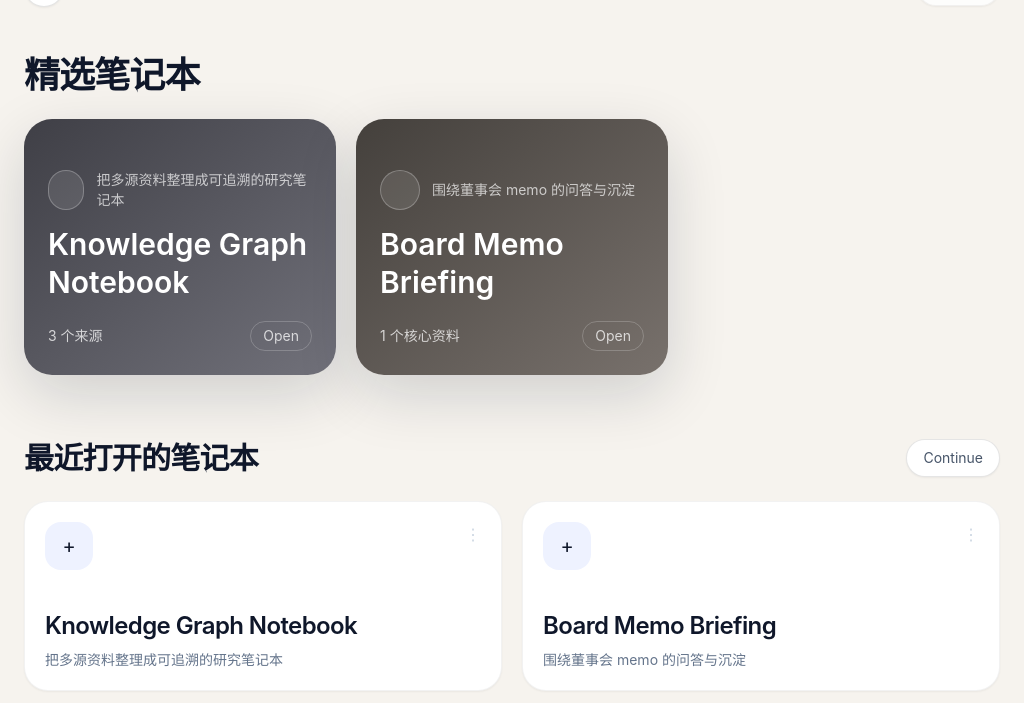
App › switches between summary, timeline and briefing views
Check: the heading "精选笔记本" is shown, box [24,53,200,97]
Step 1. Click the button "Knowledge Graph Notebook" → {"x": 180, "y": 247}, box [24,119,336,375]
(page scrolled)
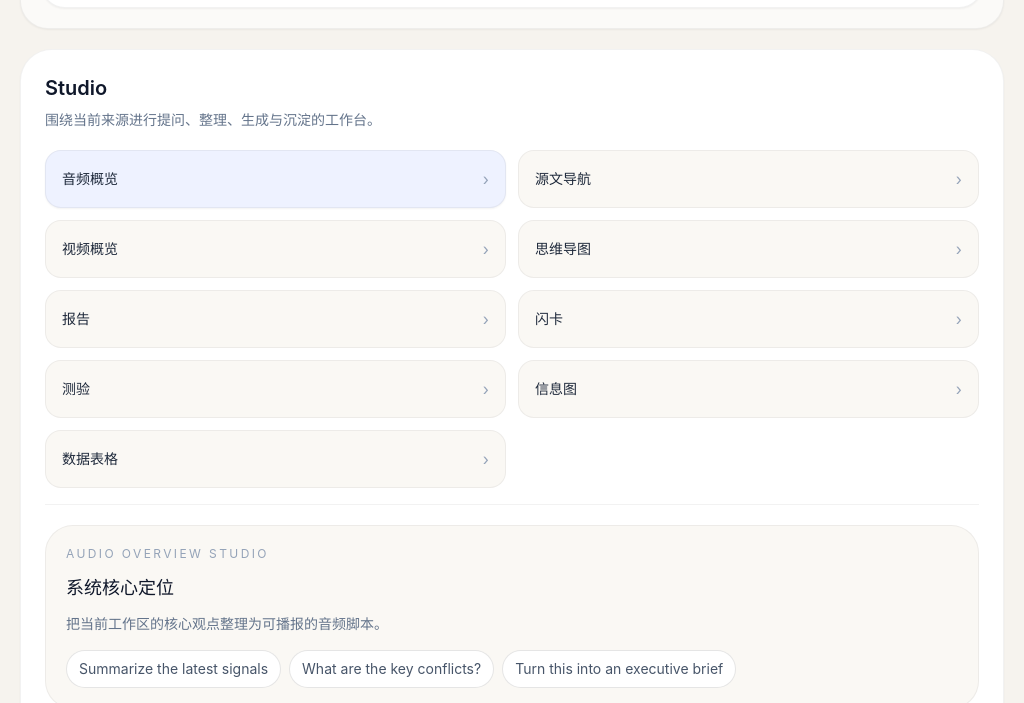
Check: the heading "Studio" is shown, box [45,76,107,100]
Check: the button "音频概览 ›" is shown, box [45,150,506,208]
Check: the button "源文导航 ›" is shown, box [518,150,979,208]
Step 2. Click the button "报告 ›" → {"x": 76, "y": 318}, box [45,290,506,348]
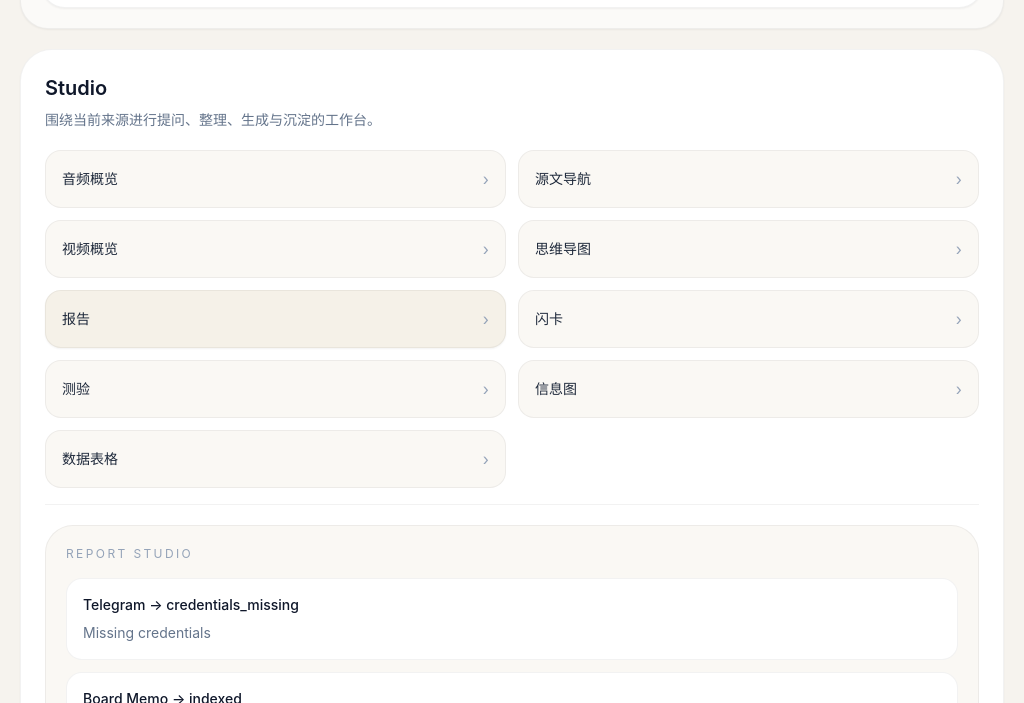
Check: the text "Report Studio" is shown, box [66,546,193,561]
Step 3. Click the button "思维导图 ›" → {"x": 563, "y": 248}, box [518,220,979,278]
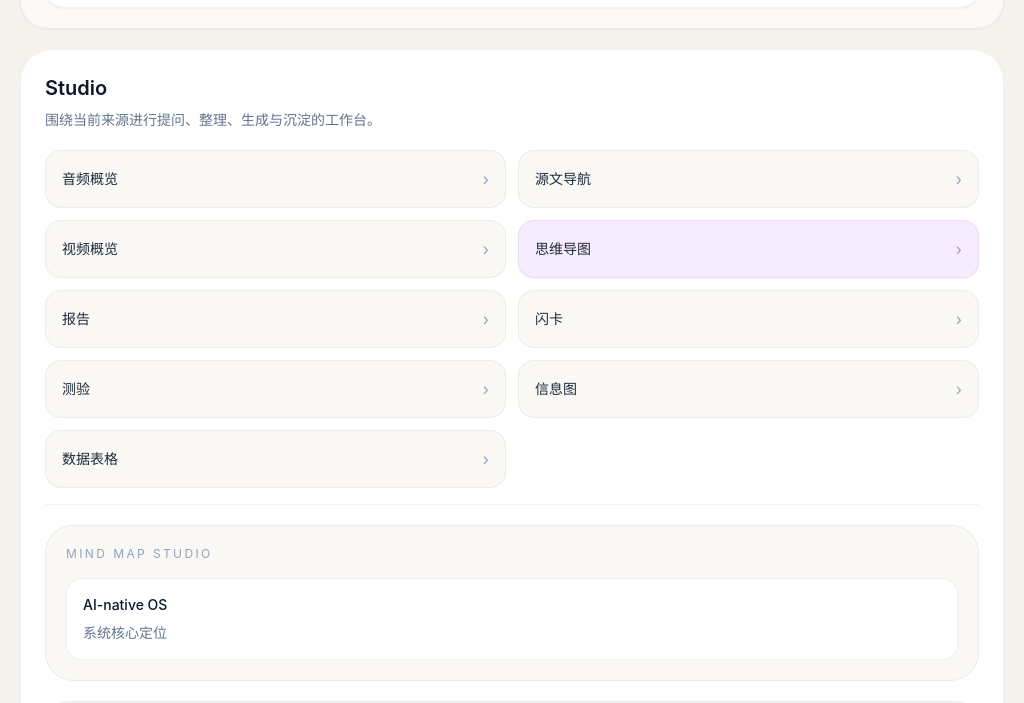
Check: the text "Mind Map Studio" is shown, box [66,546,213,561]
Step 4. Click the button "数据表格 ›" → {"x": 90, "y": 458}, box [45,430,506,488]
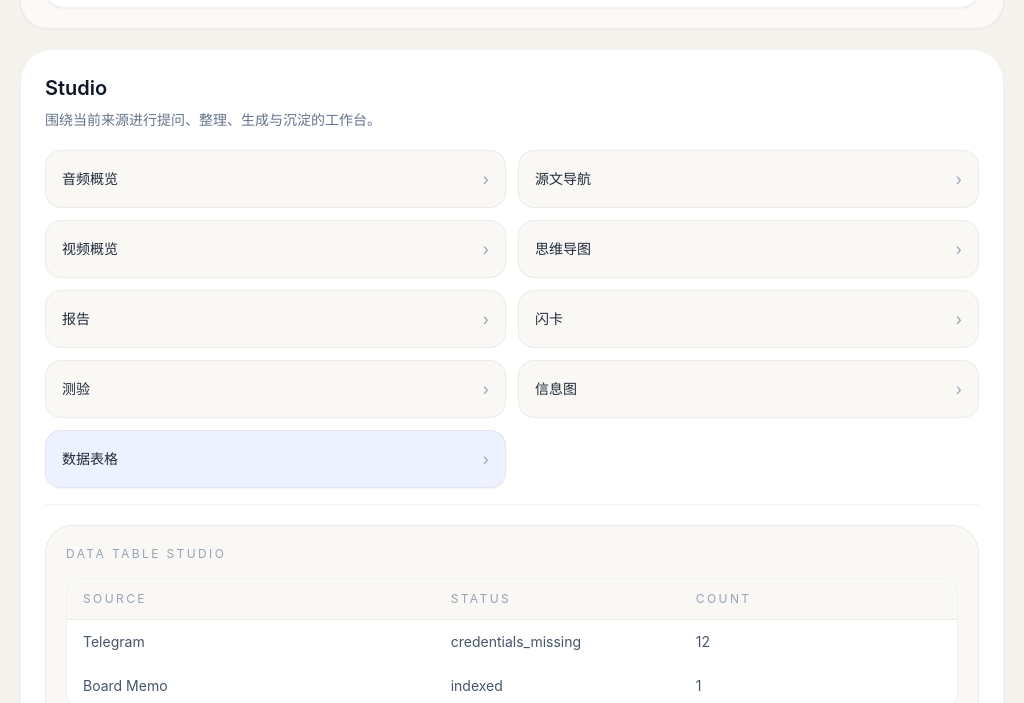
Check: the text "Data Table Studio" is shown, box [66,546,226,561]
